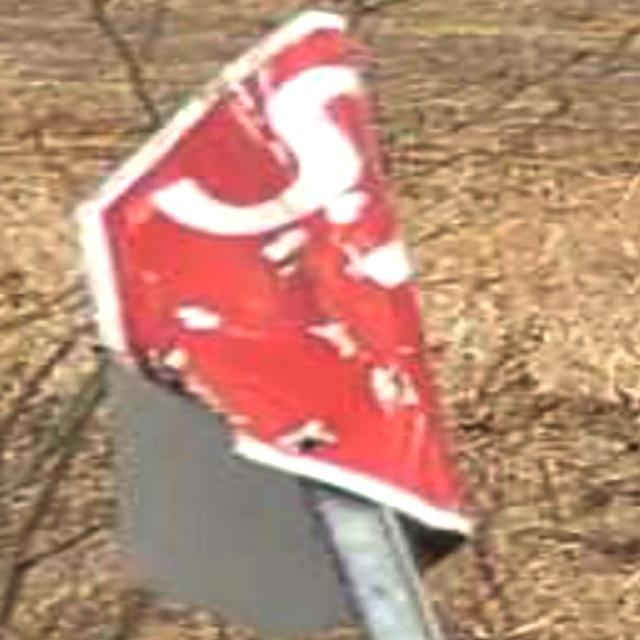damaged_missing_road_sign: (67, 10, 474, 622)
